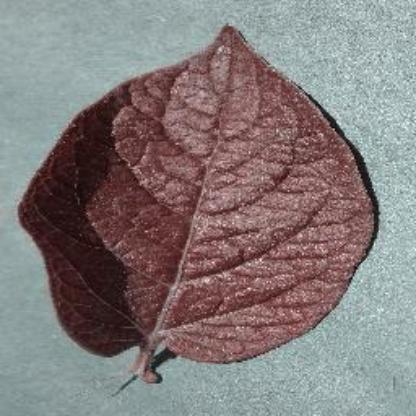Healthy-plant: (18, 19, 378, 383)
